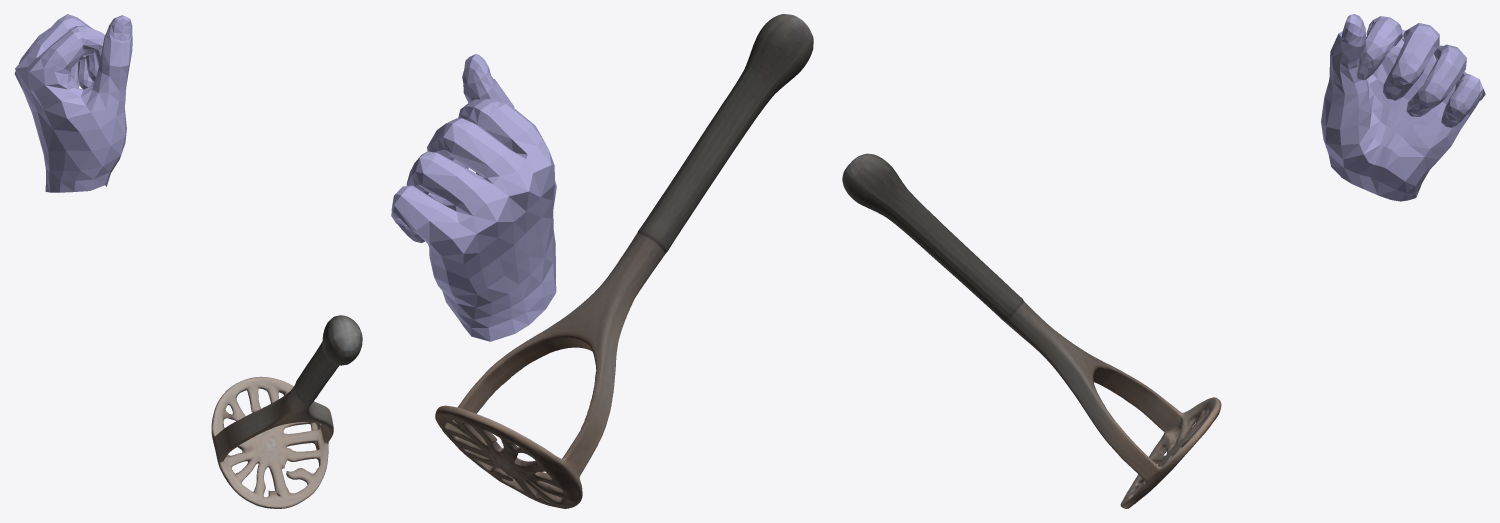
Rendered from frame_0056_source_000056_hand_object.glb.
3 views of the same model, side by side, from view 1: azimuth 30°, elevation 25°; view 2: azimuth 150°, elevation 25°; view 3: azimuth 270°, elevation 25° (orthographic). The views are drawn at different scales.
Visible parts, largest first — view 1: world; view 2: world; view 3: world.
Boxes of the visible parts, x1,y1,x2,y2 form: world: (14,14,362,508); world: (391,14,813,508); world: (842,14,1485,508).
Size of the model in its own units: 0.1328 by 0.2912 by 0.3698.
